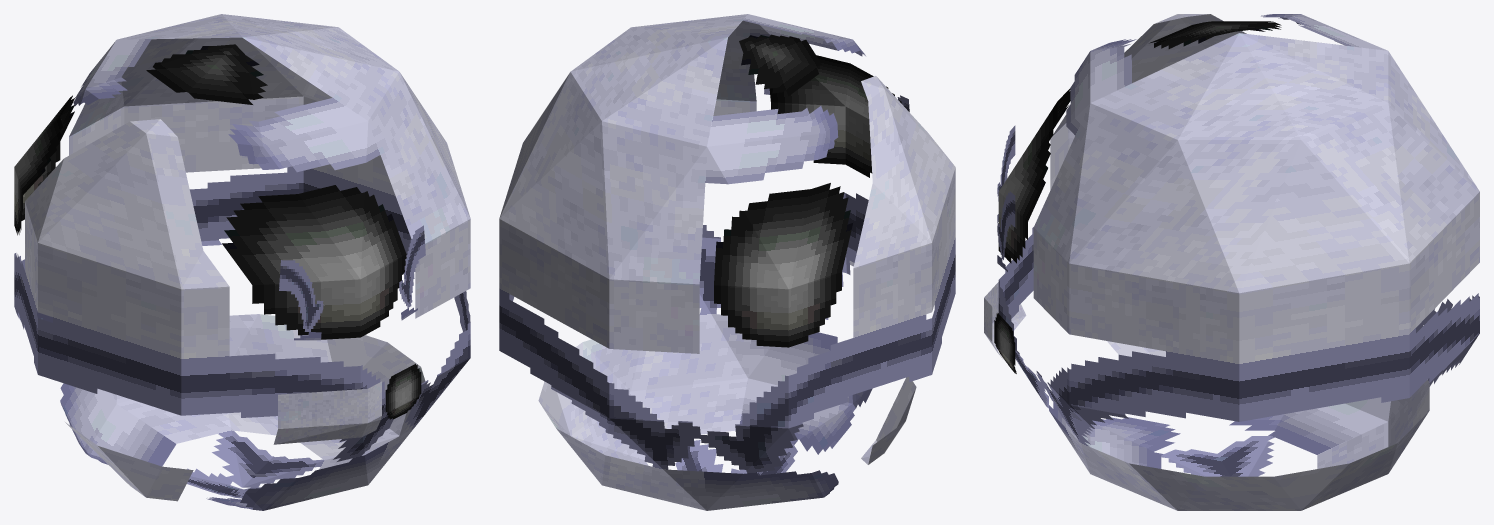
Rendered from big_snowman_head.obj.
3 views of the same model, side by side, from view 1: azimuth 30°, elevation 25°; view 2: azimuth 150°, elevation 25°; view 3: azimuth 270°, elevation 25° (orthographic).
Visible parts, largest first — view 1: big_snowman_head_model; view 2: big_snowman_head_model; view 3: big_snowman_head_model.
Part boxes in pixels (x1=…): big_snowman_head_model: x1=14, y1=14, x2=470, y2=510; big_snowman_head_model: x1=499, y1=14, x2=955, y2=510; big_snowman_head_model: x1=984, y1=14, x2=1479, y2=510.
Bounding box in the file's own units: 24.39 × 25.64 × 25.13.
Materials: 1 (1 with a texture image).
